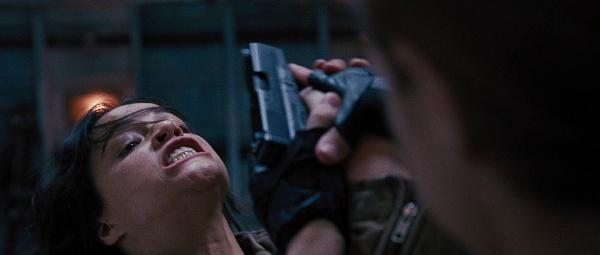Gun: (239, 42, 315, 177)
